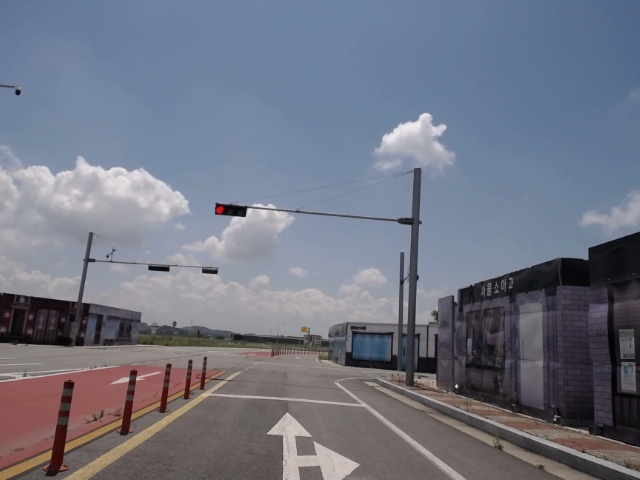red_3: (214, 200, 248, 218)
